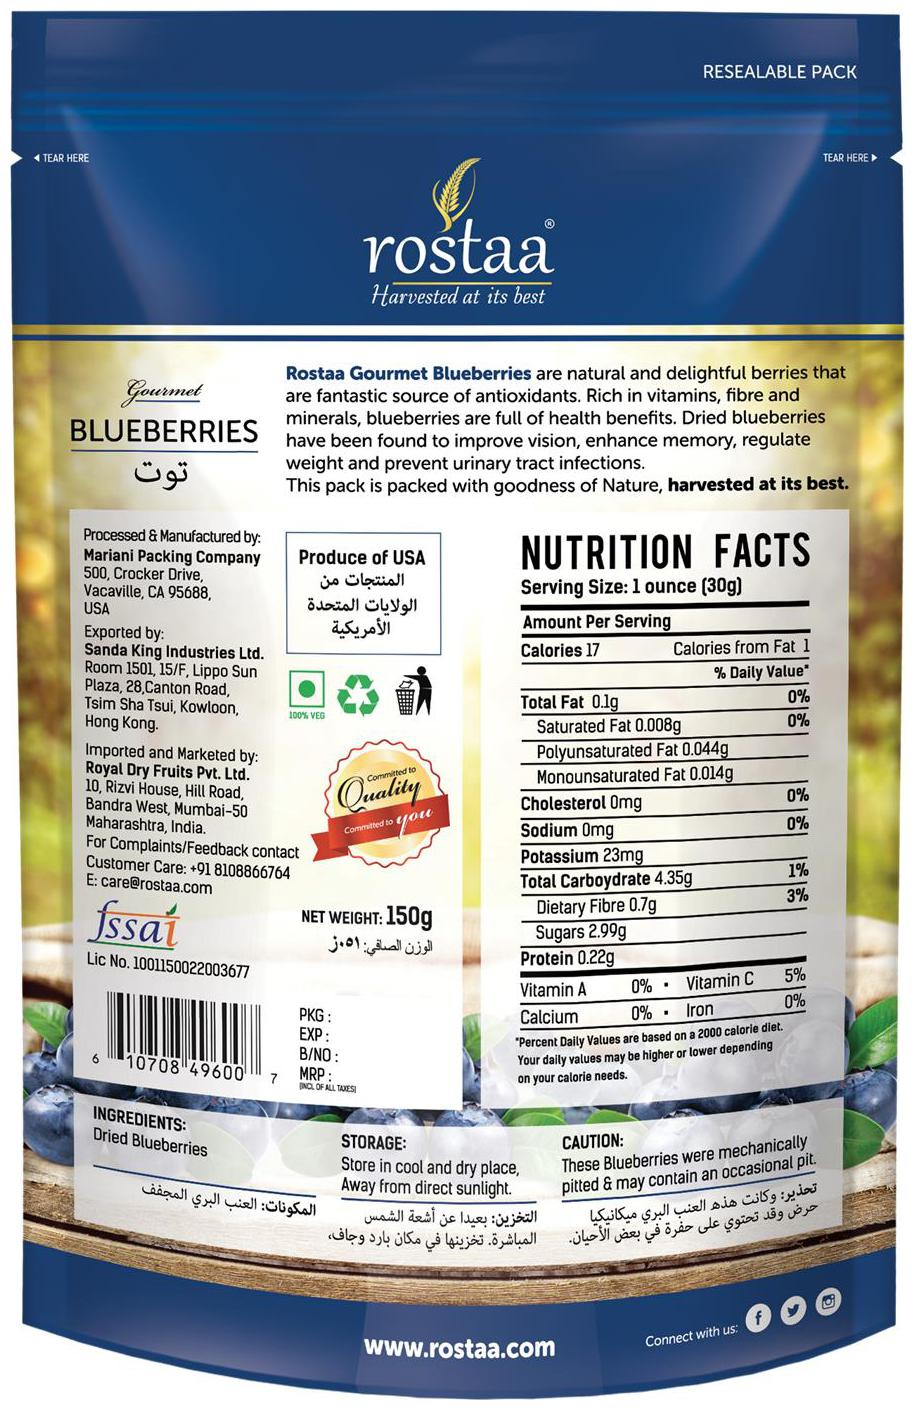fssai: (86, 896, 189, 952)
